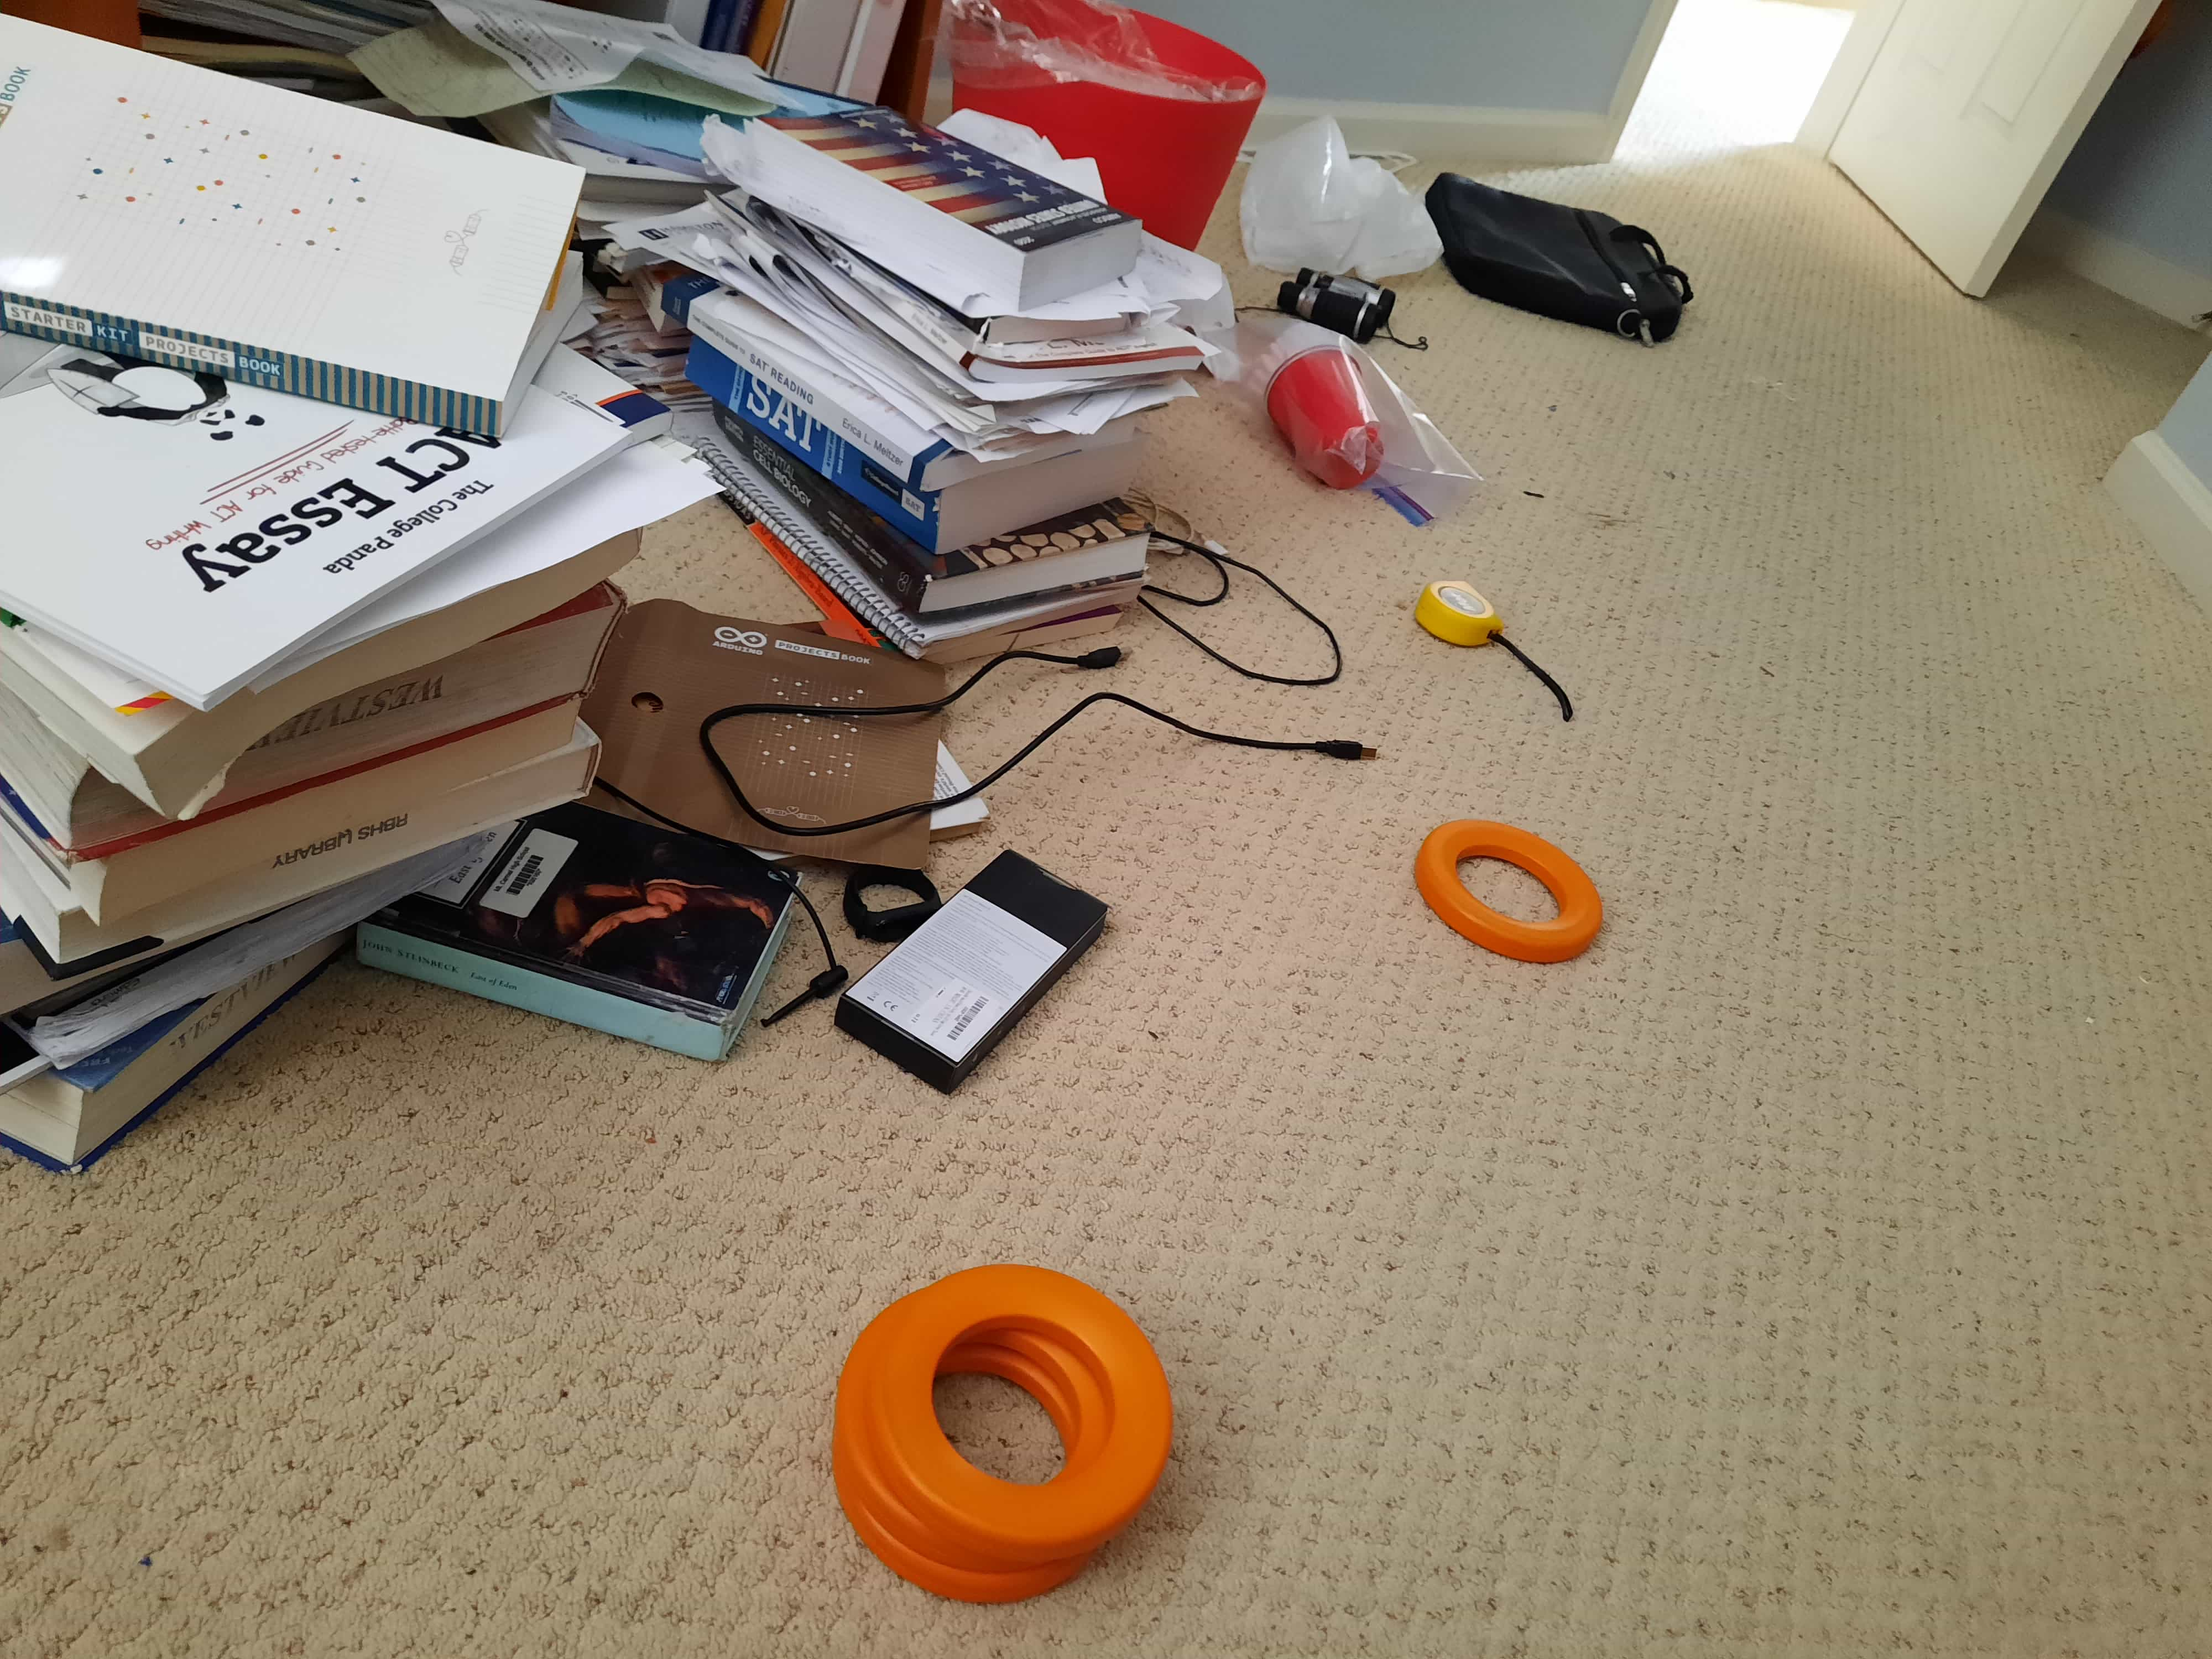FourStack: (831, 1263, 1174, 1600)
OneStack: (1420, 814, 1601, 962)
